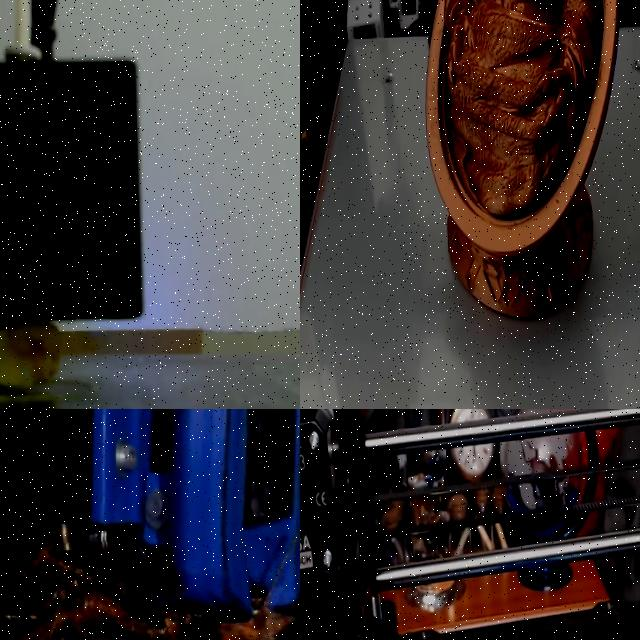spaghetti: (0, 538, 300, 640), (0, 320, 60, 389)
